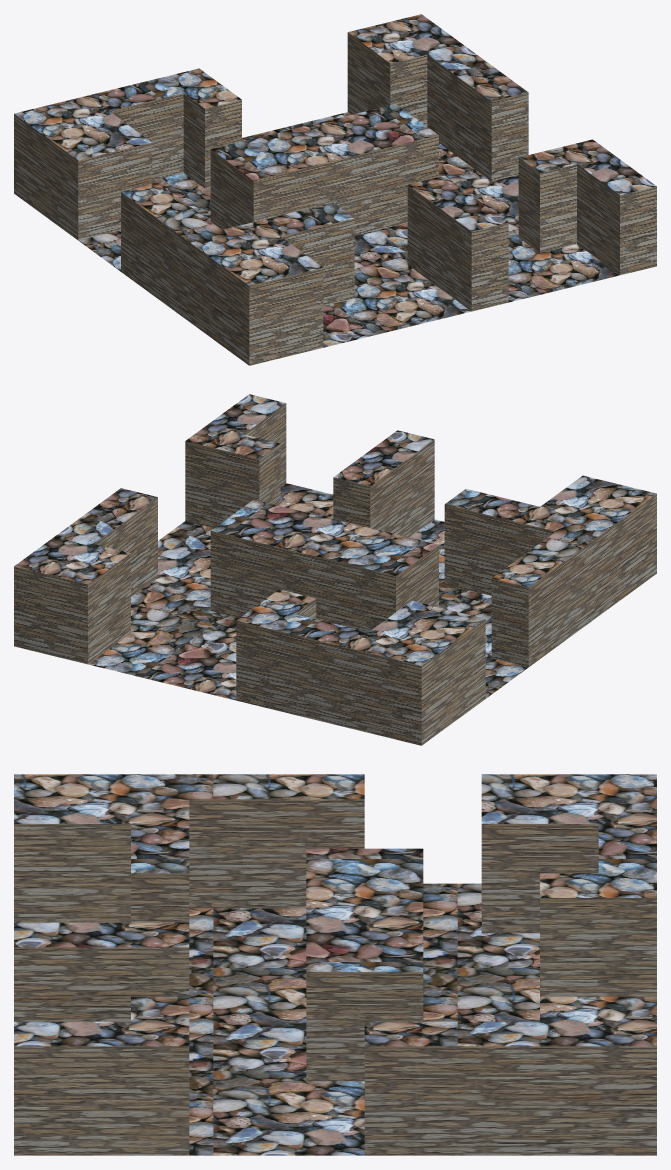
Rendered from Maze2.fbx.
3 views of the same model, one above another, from view 1: azimuth 30°, elevation 25°; view 2: azimuth 150°, elevation 25°; view 3: azimuth 270°, elevation 25° (orthographic). The views are drawn at different scales.
Parts seen in each view (by area): view 1: Plane; view 2: Plane; view 3: Plane.
Boxes of the visible parts, box(x1,y1,x2,y2) form: Plane: box(14, 14, 656, 365); Plane: box(14, 394, 656, 745); Plane: box(14, 774, 656, 1155).
Size of the model in its own units: 1600 by 300 by 1600.
2 materials, 2 textured.
